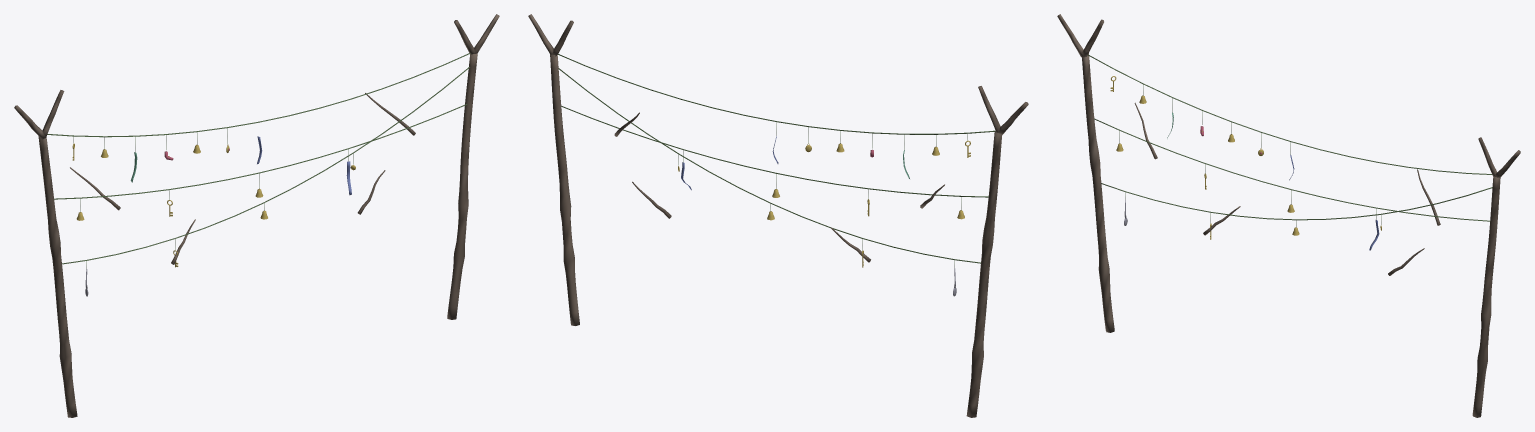
File: camp_gloamer_trinket_cords.glb
3 renders of one model, left to right at view 1: azimuth 30°, elevation 25°; view 2: azimuth 150°, elevation 25°; view 3: azimuth 330°, elevation 25°, orthographic. The views are drawn at different scales.
Visible parts, largest first — view 1: camp_gloamer_trinket_cords; view 2: camp_gloamer_trinket_cords; view 3: camp_gloamer_trinket_cords.
Boxes of the visible parts, x1=… form: camp_gloamer_trinket_cords: x1=14, y1=14, x2=499, y2=417; camp_gloamer_trinket_cords: x1=528, y1=14, x2=1028, y2=417; camp_gloamer_trinket_cords: x1=1057, y1=14, x2=1520, y2=417.
Size of what is drawn, in the model's own units: 3.82 by 2.45 by 0.2651.
